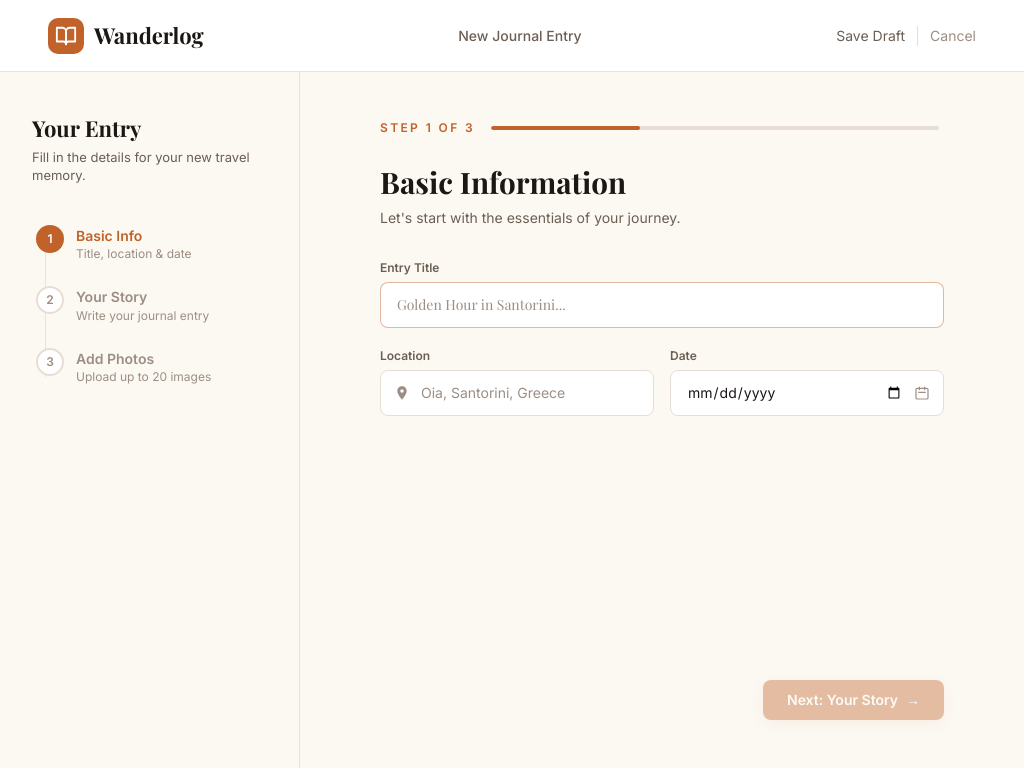
Test: CreateEntry › advancing from step 1 to step 2 shows Add Photos heading
The image size is (1024, 768).
Type "Lisbon at Dawn" into the field with placeholder "Golden Hour in Santorini...". click: (662, 305)
box: [380,282,944,328]
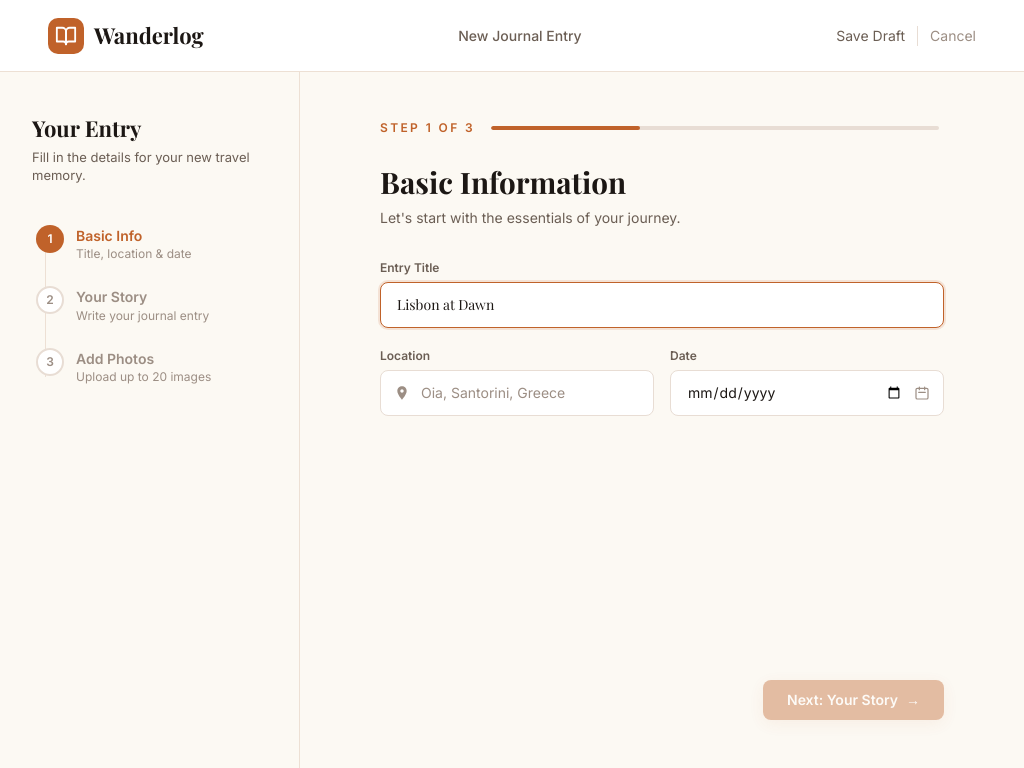
Type "Lisbon, Portugal" into the field with placeholder "Oia, Santorini, Greece". click: (517, 393)
box: [380,370,654,416]
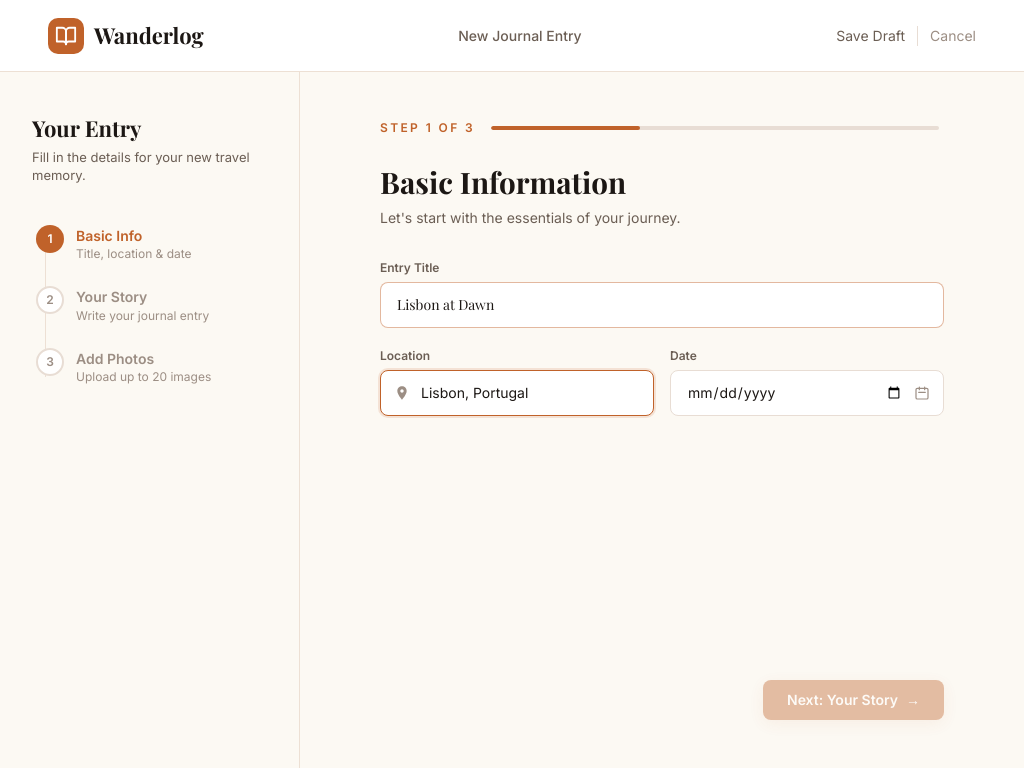
Type "2024-06-01" into the date field. click: (807, 393)
box: [670,370,944,416]
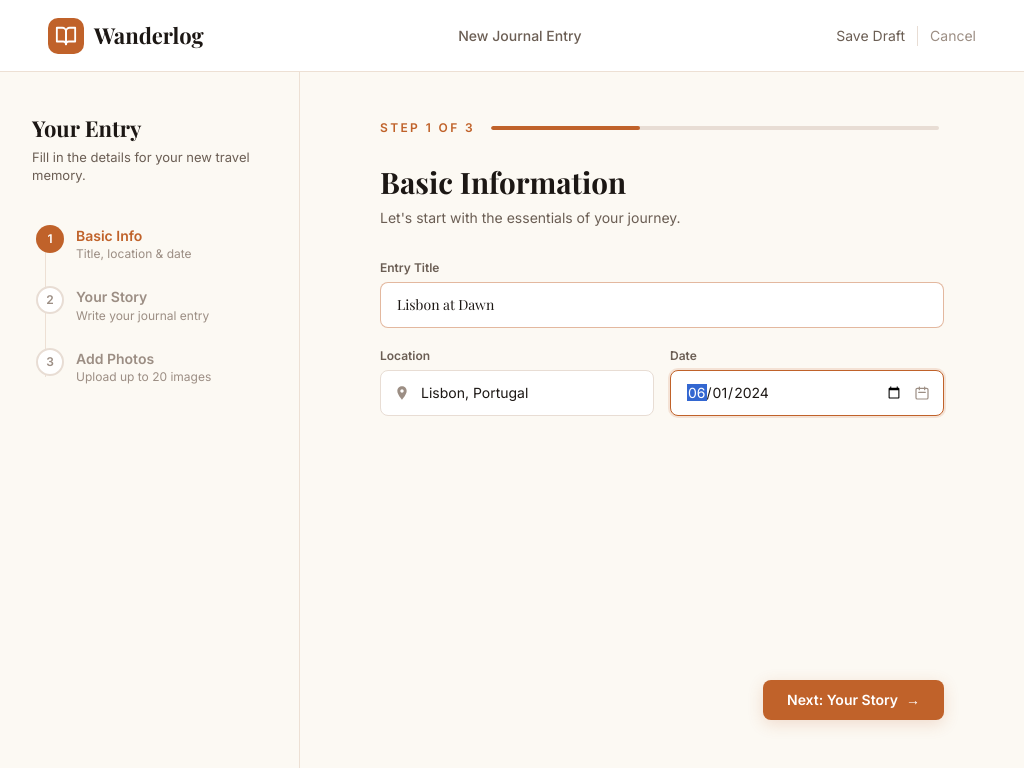
Click the button "Next: Your Story →". click: (854, 700)
box: [763,680,944,720]
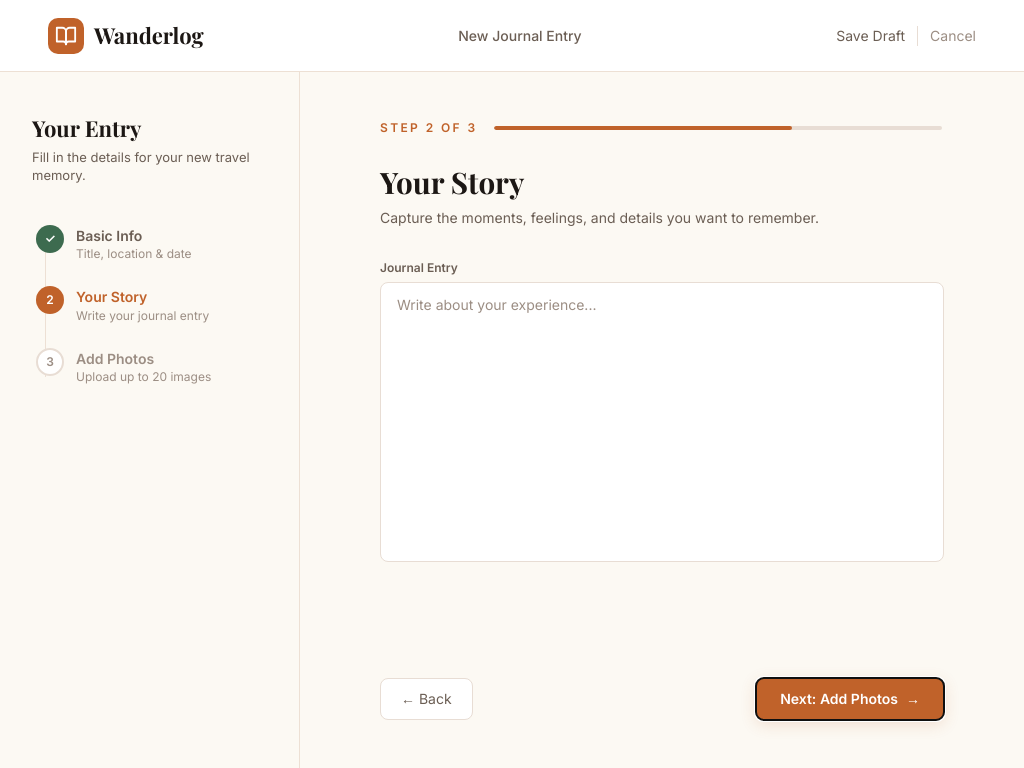
Click the button "Next: Add Photos →". click: (850, 699)
box: [756,678,944,720]
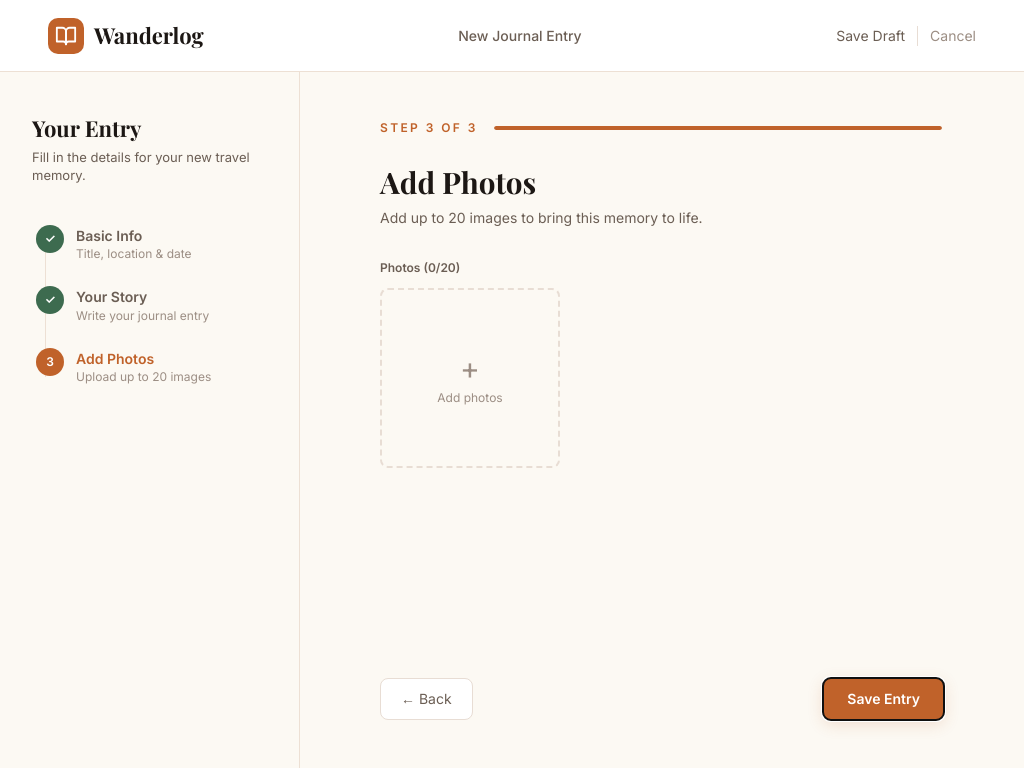
Check: the heading "Add Photos" is shown, box [380,162,536,201]
